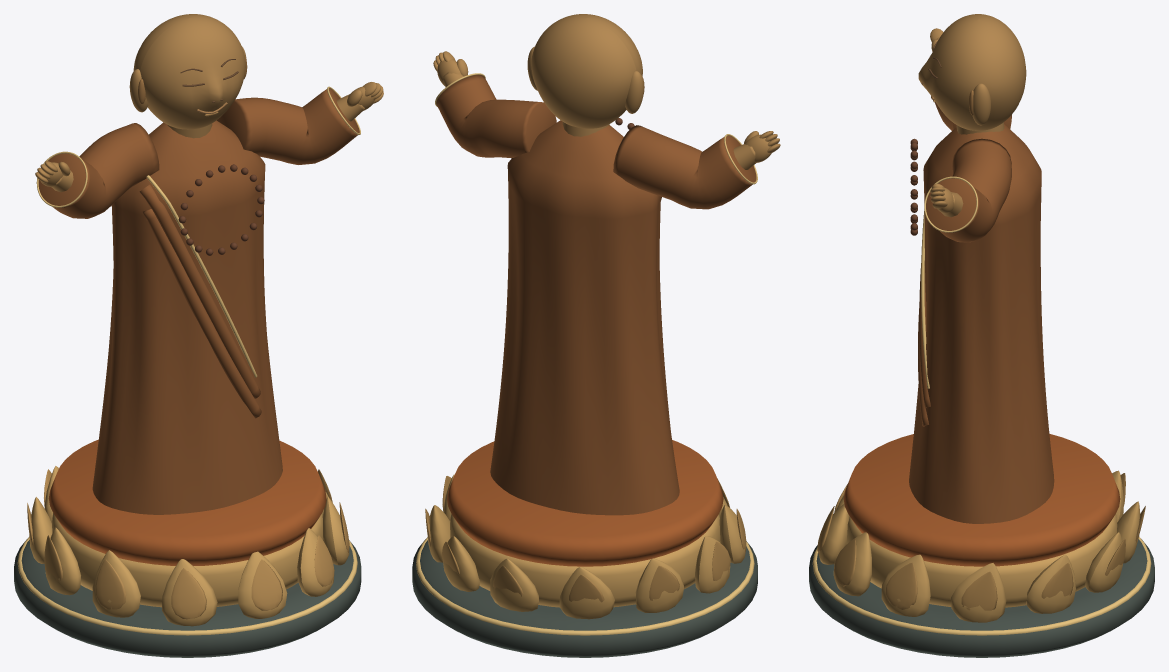
The model's file is arhat_07.glb.
3 renders of one model, left to right at view 1: azimuth 30°, elevation 25°; view 2: azimuth 150°, elevation 25°; view 3: azimuth 270°, elevation 25°, orthographic.
Visible parts, largest first — view 1: arhat_07_ArhatDrapery, arhat_07_SaffronDrapery, arhat_07_AntiqueGold, arhat_07_CarvedPlinth, arhat_07_WarmBronze, arhat_07_GoldPetalRelief, arhat_07_RaisedGoldBorders, arhat_07_PolishedPrayerBeads; view 2: arhat_07_ArhatDrapery, arhat_07_SaffronDrapery, arhat_07_CarvedPlinth, arhat_07_AntiqueGold, arhat_07_WarmBronze, arhat_07_GoldPetalRelief, arhat_07_RaisedGoldBorders; view 3: arhat_07_ArhatDrapery, arhat_07_SaffronDrapery, arhat_07_AntiqueGold, arhat_07_CarvedPlinth, arhat_07_WarmBronze, arhat_07_GoldPetalRelief, arhat_07_RaisedGoldBorders, arhat_07_PolishedPrayerBeads.
Part boxes in pixels (bbox=[...]): arhat_07_ArhatDrapery: bbox=[38, 88, 359, 514]; arhat_07_SaffronDrapery: bbox=[48, 439, 326, 565]; arhat_07_AntiqueGold: bbox=[29, 466, 349, 626]; arhat_07_CarvedPlinth: bbox=[14, 539, 361, 657]; arhat_07_WarmBronze: bbox=[35, 14, 383, 192]; arhat_07_GoldPetalRelief: bbox=[27, 469, 349, 619]; arhat_07_RaisedGoldBorders: bbox=[17, 86, 360, 635]; arhat_07_PolishedPrayerBeads: bbox=[178, 164, 264, 255]; arhat_07_ArhatDrapery: bbox=[436, 75, 756, 515]; arhat_07_SaffronDrapery: bbox=[447, 440, 723, 566]; arhat_07_CarvedPlinth: bbox=[412, 539, 757, 657]; arhat_07_AntiqueGold: bbox=[427, 474, 746, 619]; arhat_07_WarmBronze: bbox=[433, 14, 780, 169]; arhat_07_GoldPetalRelief: bbox=[425, 476, 746, 602]; arhat_07_RaisedGoldBorders: bbox=[416, 73, 757, 635]; arhat_07_ArhatDrapery: bbox=[909, 102, 1054, 523]; arhat_07_SaffronDrapery: bbox=[843, 433, 1120, 566]; arhat_07_AntiqueGold: bbox=[818, 470, 1140, 622]; arhat_07_CarvedPlinth: bbox=[809, 539, 1154, 657]; arhat_07_WarmBronze: bbox=[918, 14, 1026, 217]; arhat_07_GoldPetalRelief: bbox=[817, 473, 1145, 610]; arhat_07_RaisedGoldBorders: bbox=[812, 176, 1151, 635]; arhat_07_PolishedPrayerBeads: bbox=[910, 138, 917, 235].
Bounding box in the file's own units: 1.06 × 1.67 × 0.92.
